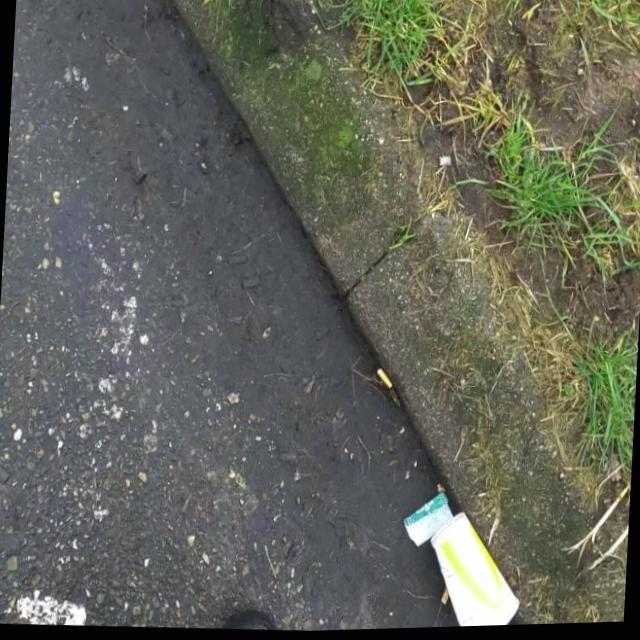Cup: (426, 510, 526, 630)
Plastic: (402, 492, 455, 552)
